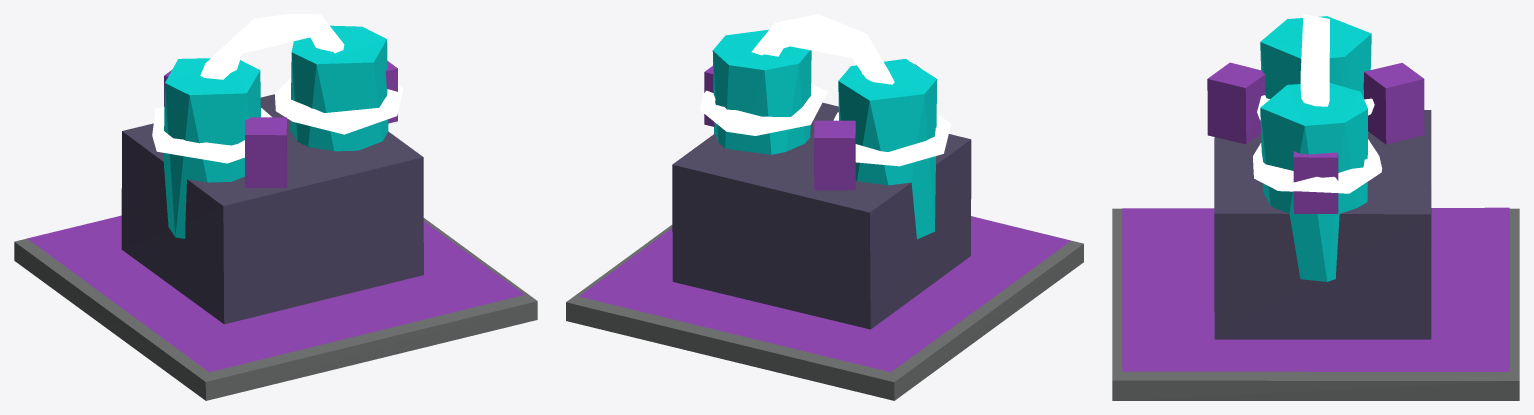
The model's file is SM_Chronolegion_CH_PowerPlant_LOD3.fbx.
The picture shows the model from 3 angles, left to right: view 1: azimuth 30°, elevation 25°; view 2: azimuth 150°, elevation 25°; view 3: azimuth 270°, elevation 25°; orthographic projection. The views are drawn at different scales.
Visible parts, largest first — view 1: LOD03_SM_Chronolegion_CH_PowerPlant; view 2: LOD03_SM_Chronolegion_CH_PowerPlant; view 3: LOD03_SM_Chronolegion_CH_PowerPlant.
Boxes of the visible parts, x1,y1,x2,y2 form: LOD03_SM_Chronolegion_CH_PowerPlant: [14, 14, 537, 400]; LOD03_SM_Chronolegion_CH_PowerPlant: [566, 14, 1083, 400]; LOD03_SM_Chronolegion_CH_PowerPlant: [1112, 14, 1519, 400].
Bounding box in the file's own units: 597 × 597 × 474.
